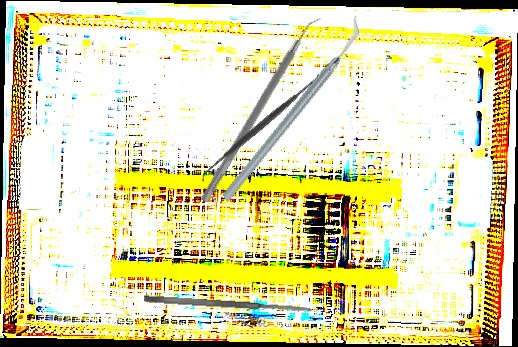Chopper: (178, 15, 405, 204)
Spatula Surgical: (200, 10, 325, 209), (193, 69, 327, 185), (143, 294, 313, 315)
